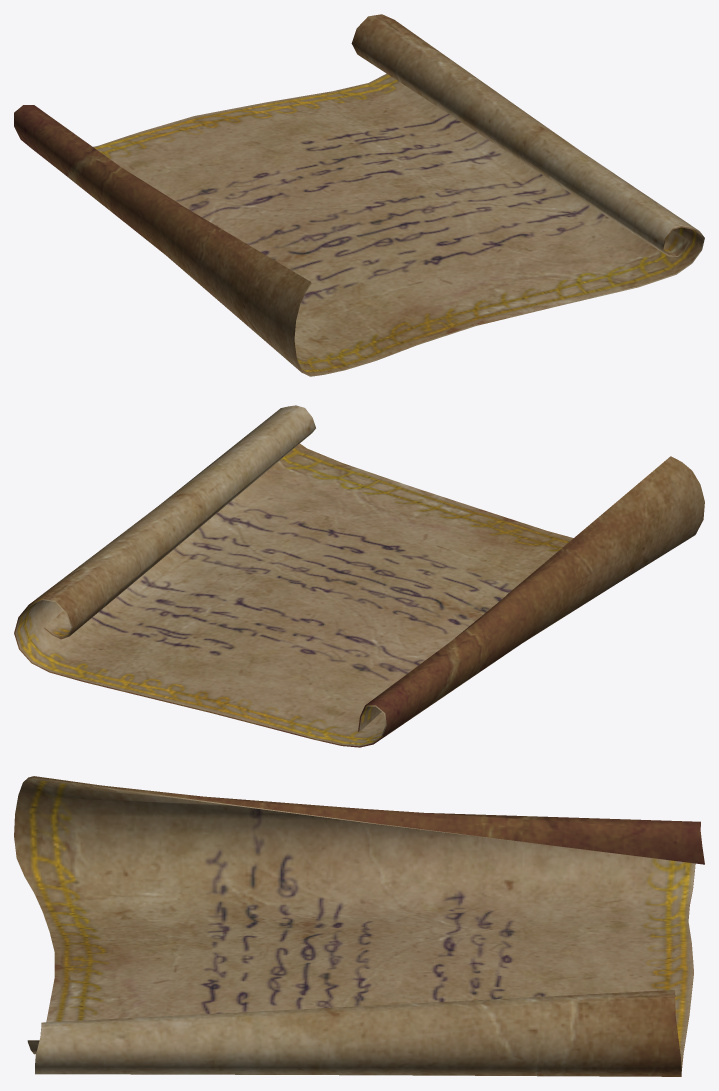
The model's file is Scroll_B.FBX.
3 views of the same model, one above another, from view 1: azimuth 30°, elevation 25°; view 2: azimuth 150°, elevation 25°; view 3: azimuth 270°, elevation 25° (orthographic). The views are drawn at different scales.
Parts seen in each view (by area): view 1: Scroll_B; view 2: Scroll_B; view 3: Scroll_B.
Part boxes in pixels (left/top/right/bottom): Scroll_B: left=14, top=14, right=704, bottom=376; Scroll_B: left=14, top=405, right=704, bottom=747; Scroll_B: left=14, top=776, right=704, bottom=1076.
Size of the model in its own units: 34.51 by 7.95 by 43.
